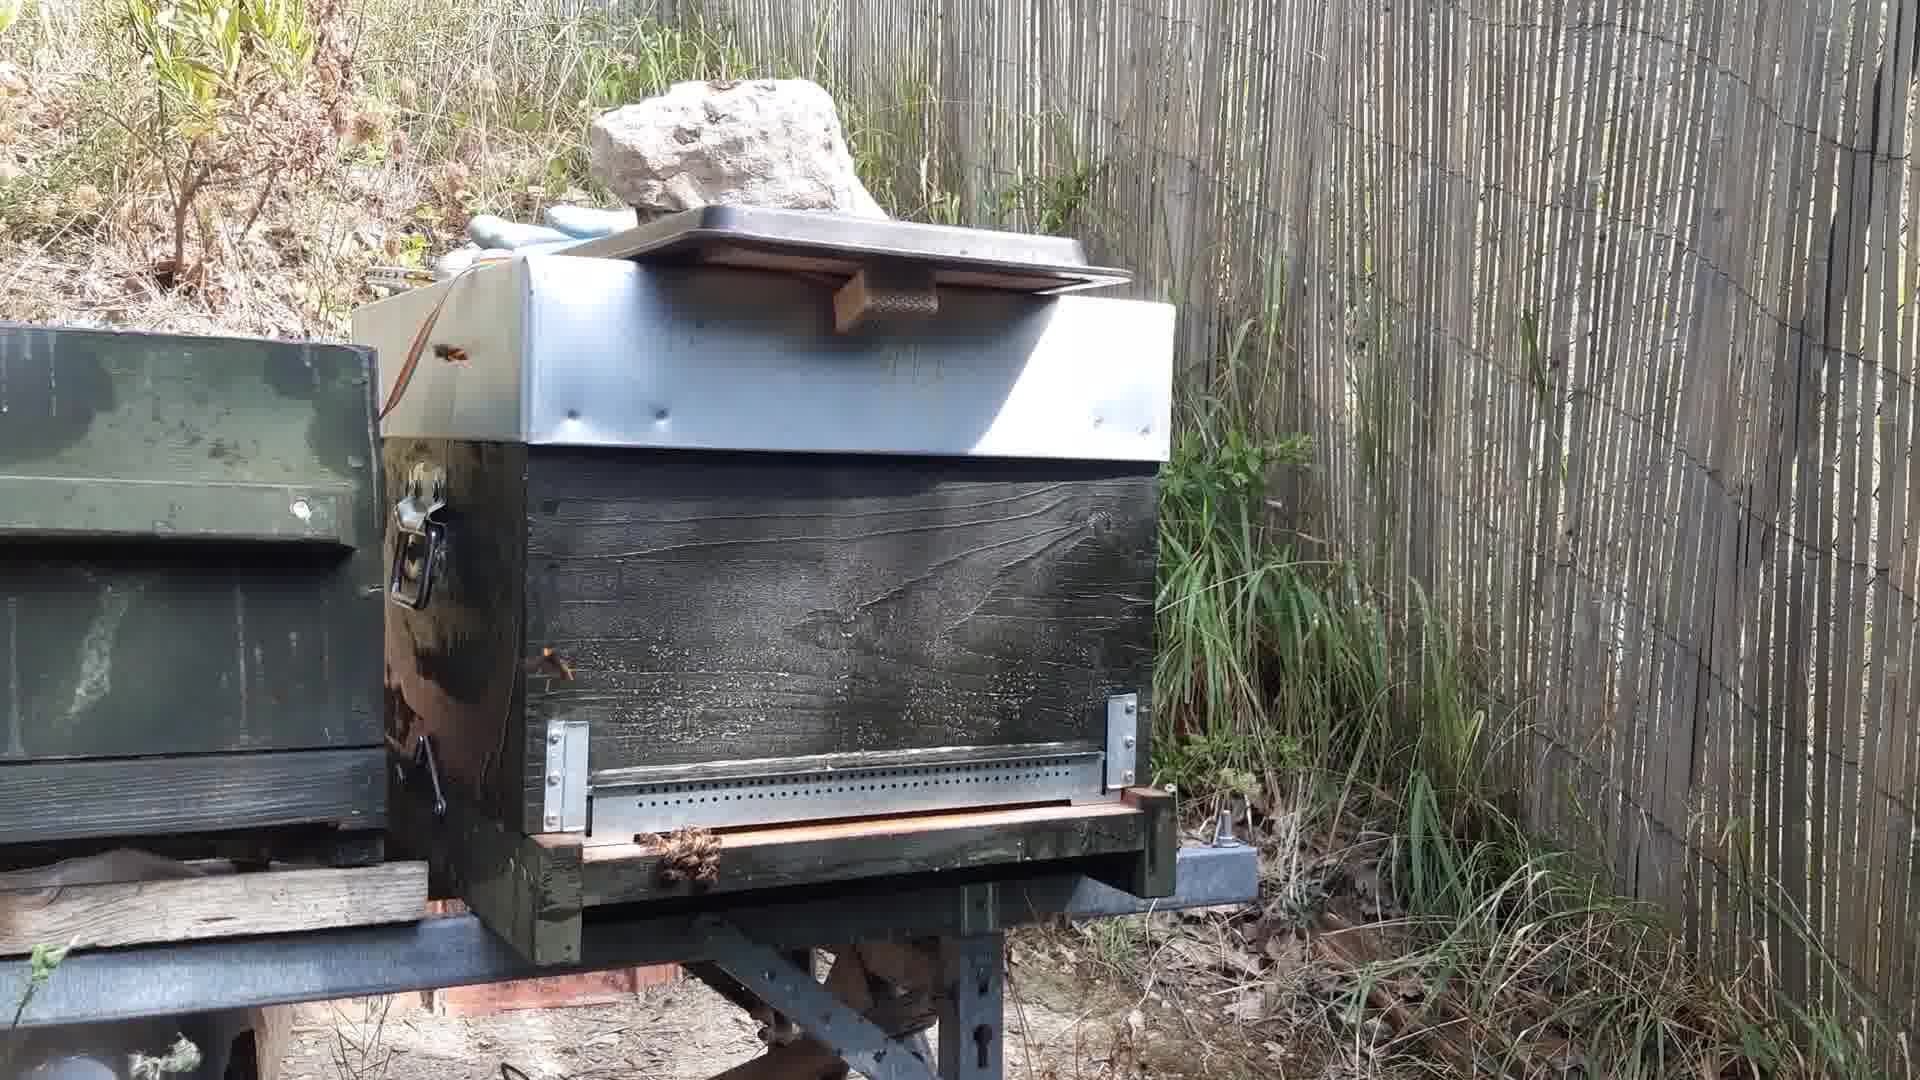bee: (647, 823, 732, 891)
hornet: (533, 641, 580, 687), (429, 340, 475, 372)
